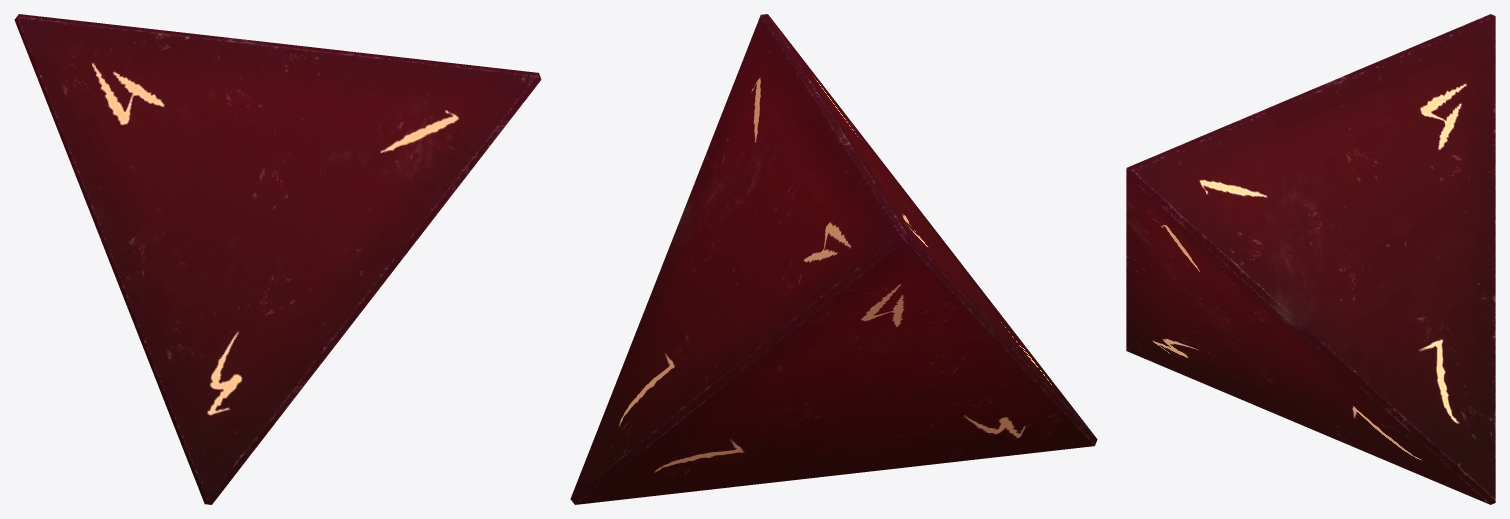
File: DragonGem_d4.gltf
3 renders of one model, left to right at view 1: azimuth 30°, elevation 25°; view 2: azimuth 150°, elevation 25°; view 3: azimuth 270°, elevation 25°, orthographic. The views are drawn at different scales.
Visible parts, largest first — view 1: dragongem_d4; view 2: dragongem_d4; view 3: dragongem_d4.
Boxes of the visible parts, x1,y1,x2,y2 form: dragongem_d4: [14, 14, 541, 504]; dragongem_d4: [570, 14, 1097, 504]; dragongem_d4: [1126, 14, 1495, 504].
Bounding box in the file's own units: 135 × 135 × 135.
Materials: 1 (1 with a texture image).
